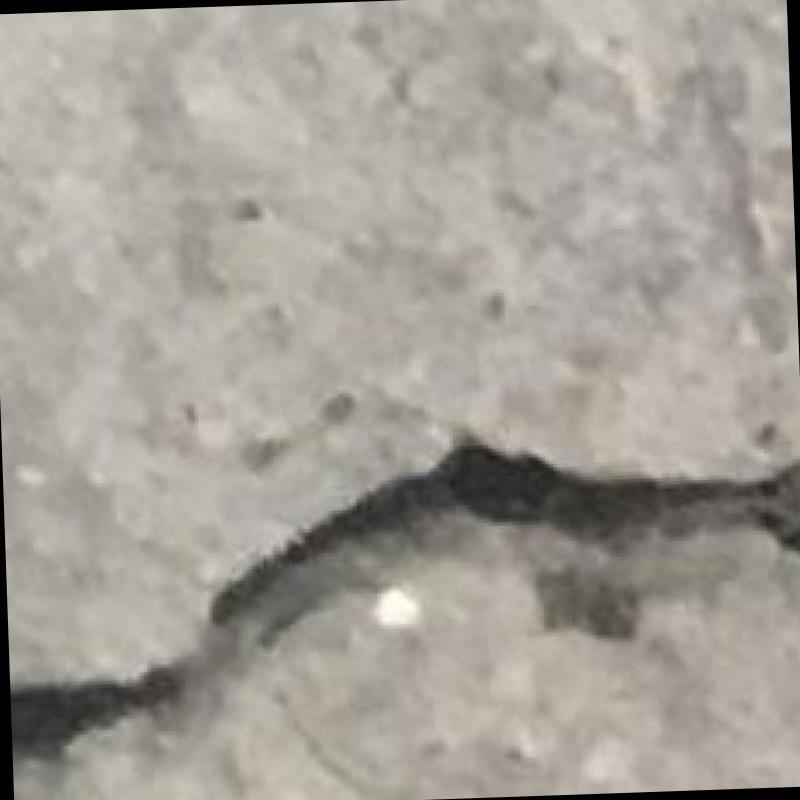crack: (10, 436, 800, 758)
